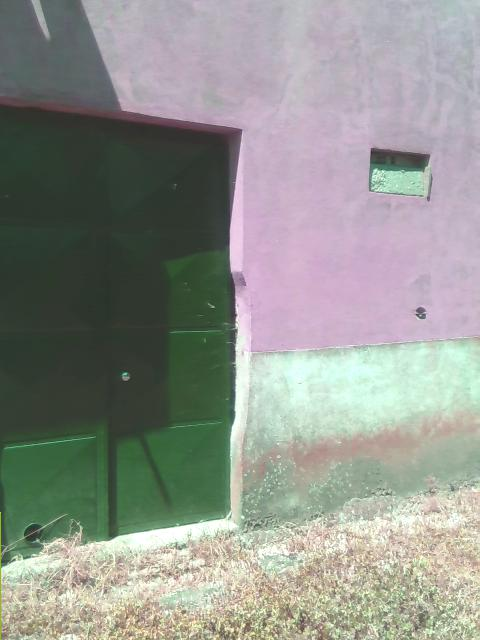closed_door: (5, 126, 236, 543)
